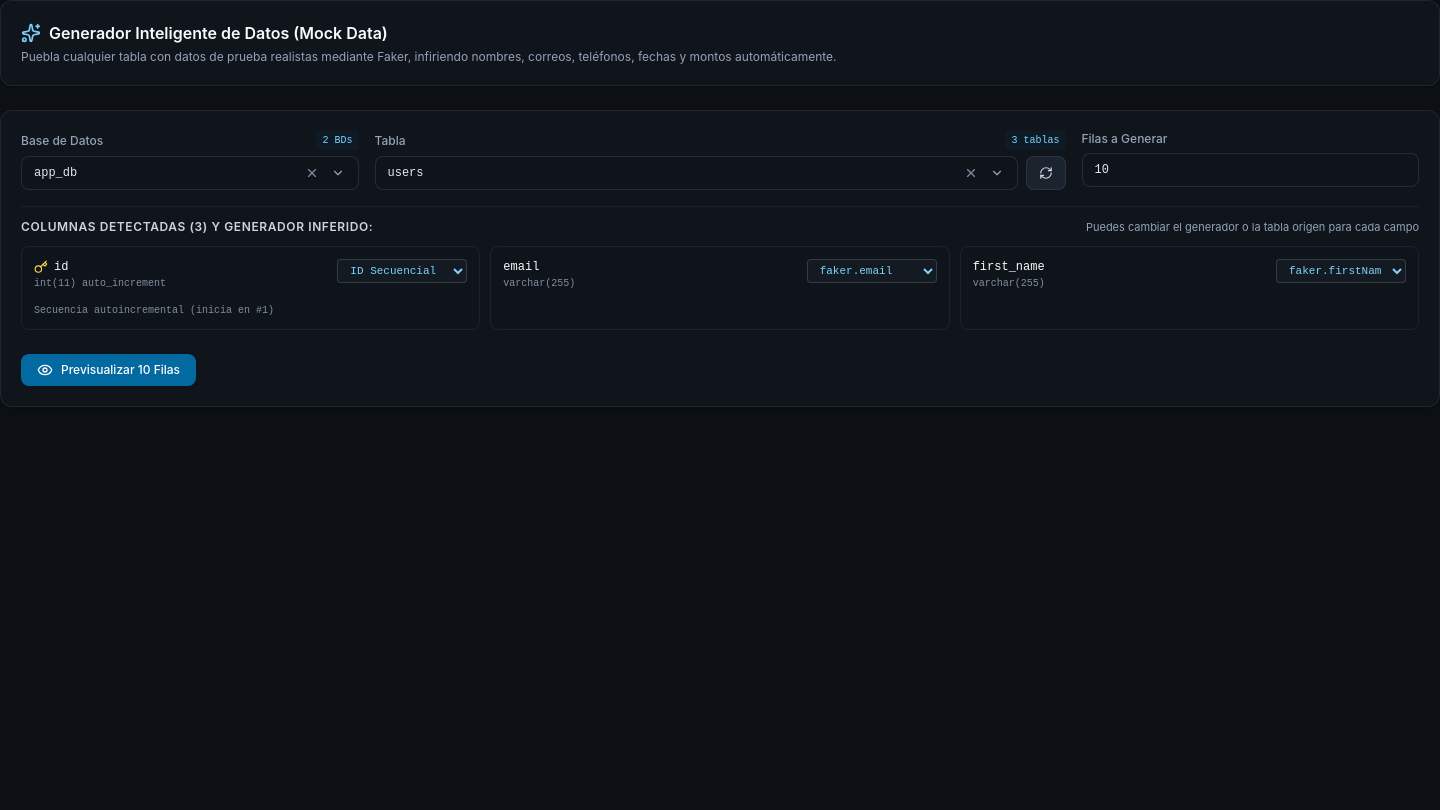
Scenario: MockDataTab › generates plausible-looking emails for an email column
Step 1. Click the button "Previsualizar 10 Filas" → point(109, 370), box [21,354,196,386]
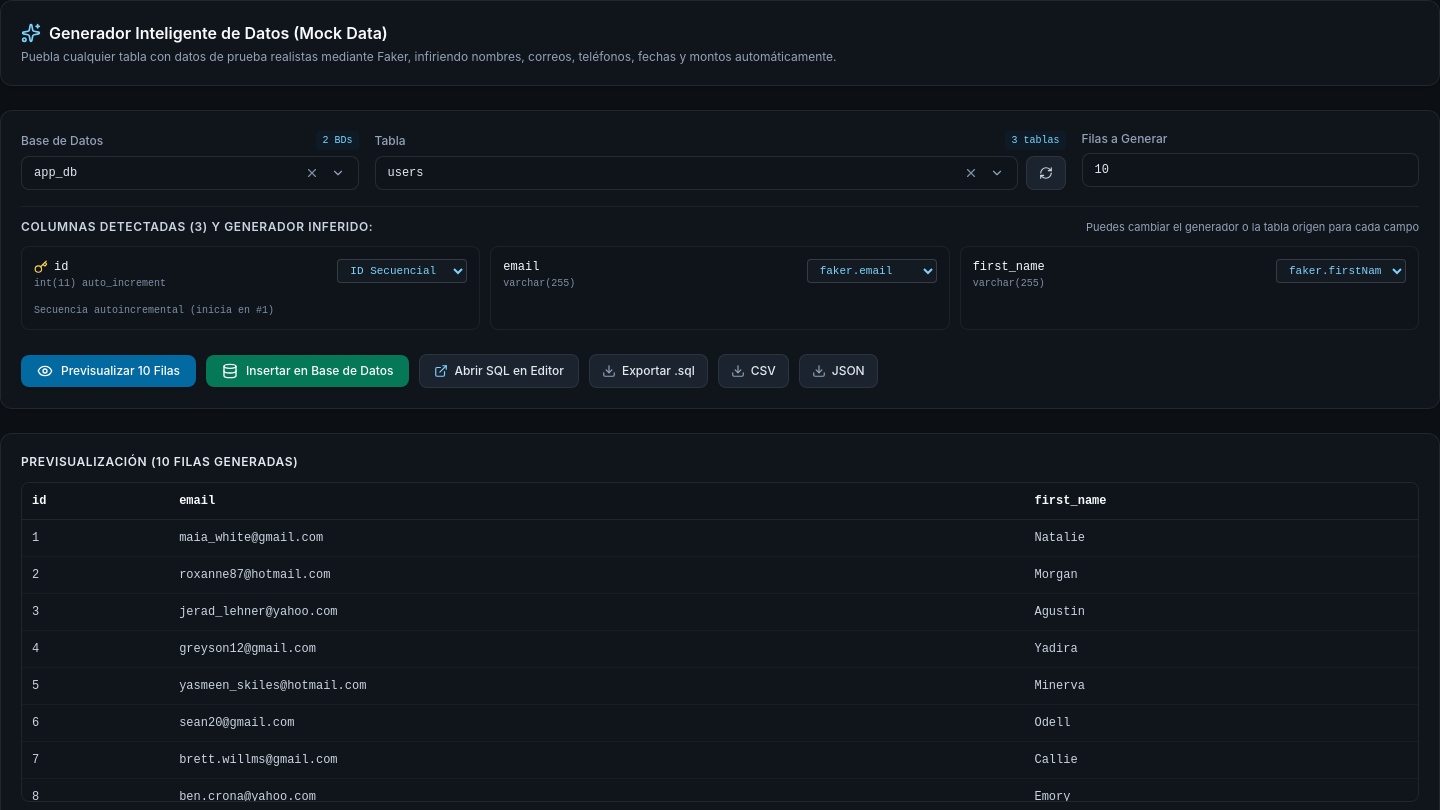
Expected: the text "@" is shown, [169,520,1024,557]
